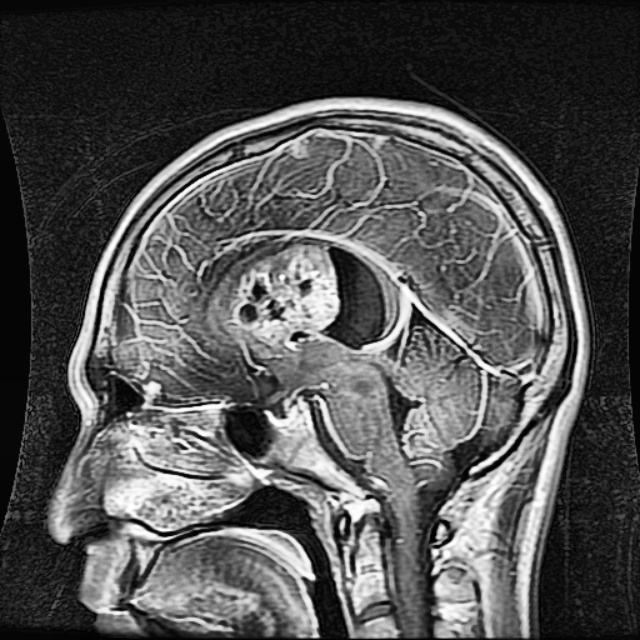Meningioma: (232, 240, 385, 355)
